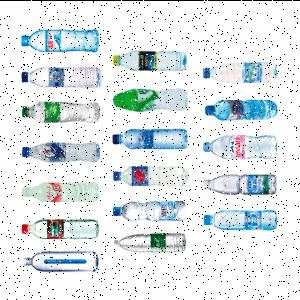Plastic-bottle: (114, 89, 190, 113), (21, 30, 100, 53), (21, 67, 103, 89), (204, 135, 278, 159), (23, 101, 102, 123), (23, 142, 101, 164), (23, 182, 101, 203), (203, 174, 277, 196), (204, 62, 278, 84), (24, 251, 100, 272), (113, 128, 189, 149), (22, 219, 100, 239), (113, 201, 187, 222), (204, 210, 278, 231), (205, 100, 279, 121), (114, 166, 190, 186), (114, 51, 188, 71), (114, 233, 187, 253)
